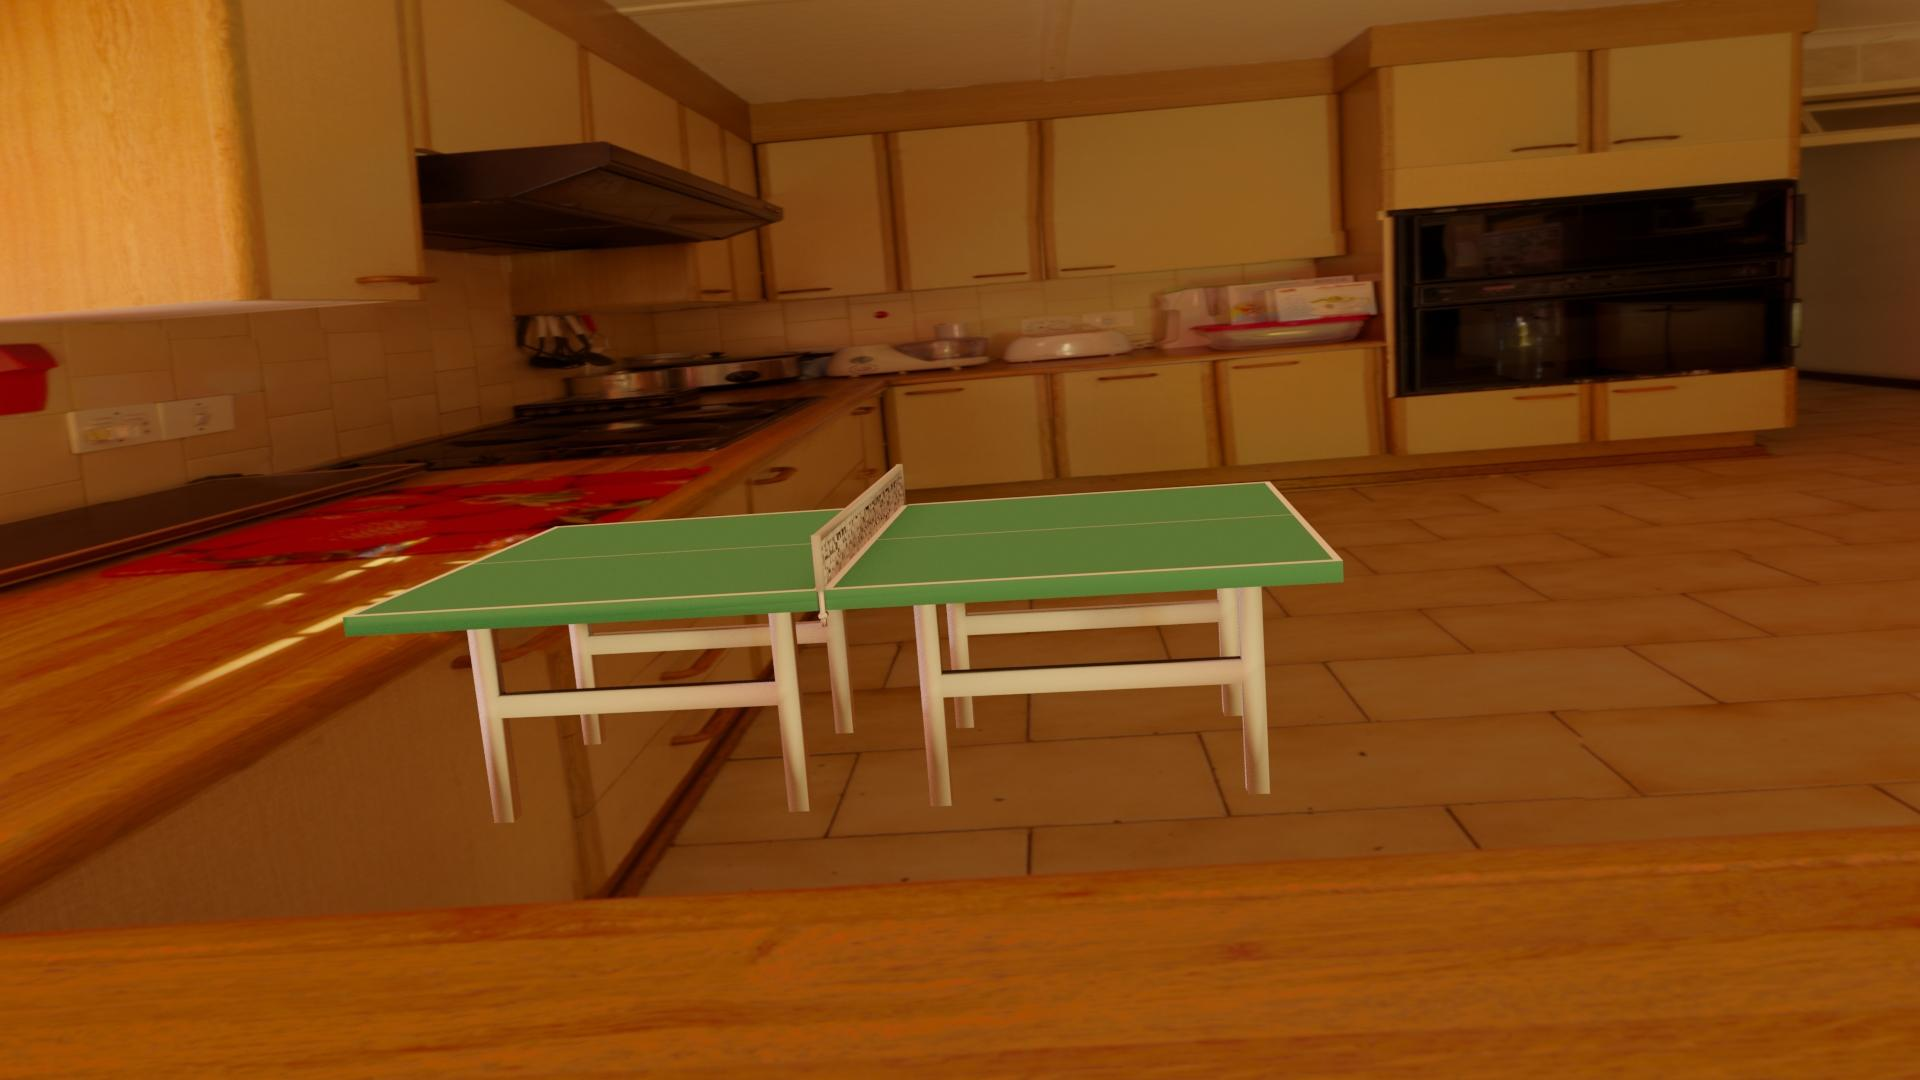table: (353, 483, 1333, 616)
